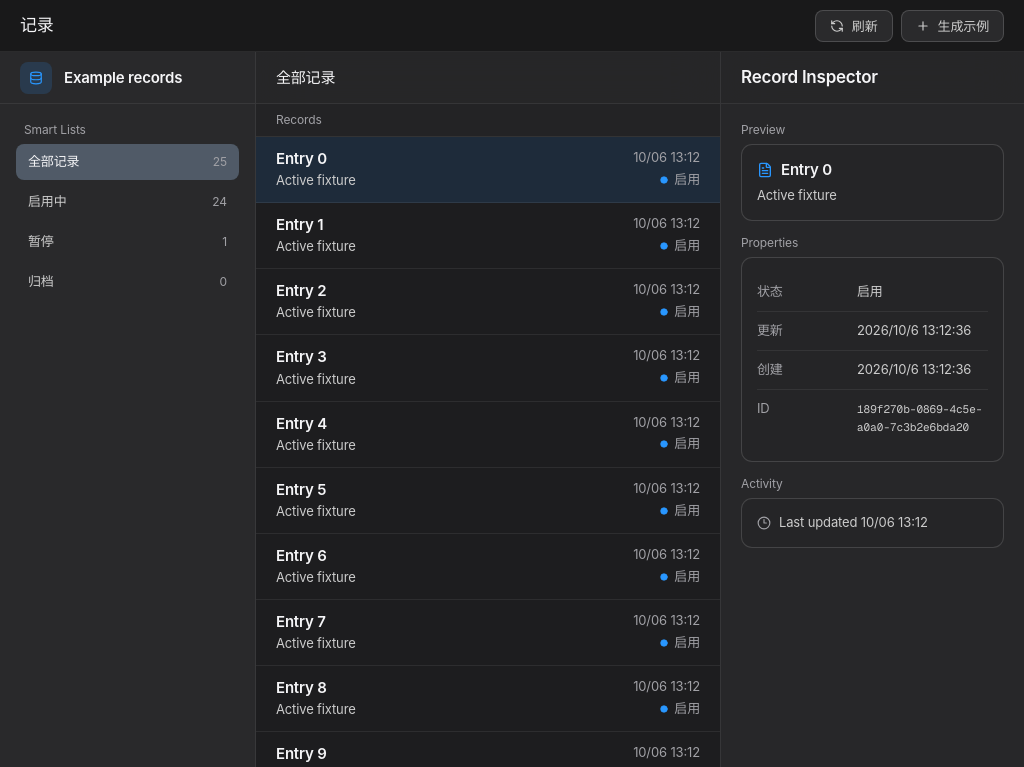
shows and filters records beyond the former first page
Check: the button "全部记录 25" is shown, box [16,144,239,180]
Step 1. Click the button "暂停 1" → x=128, y=242, box [16,224,239,260]
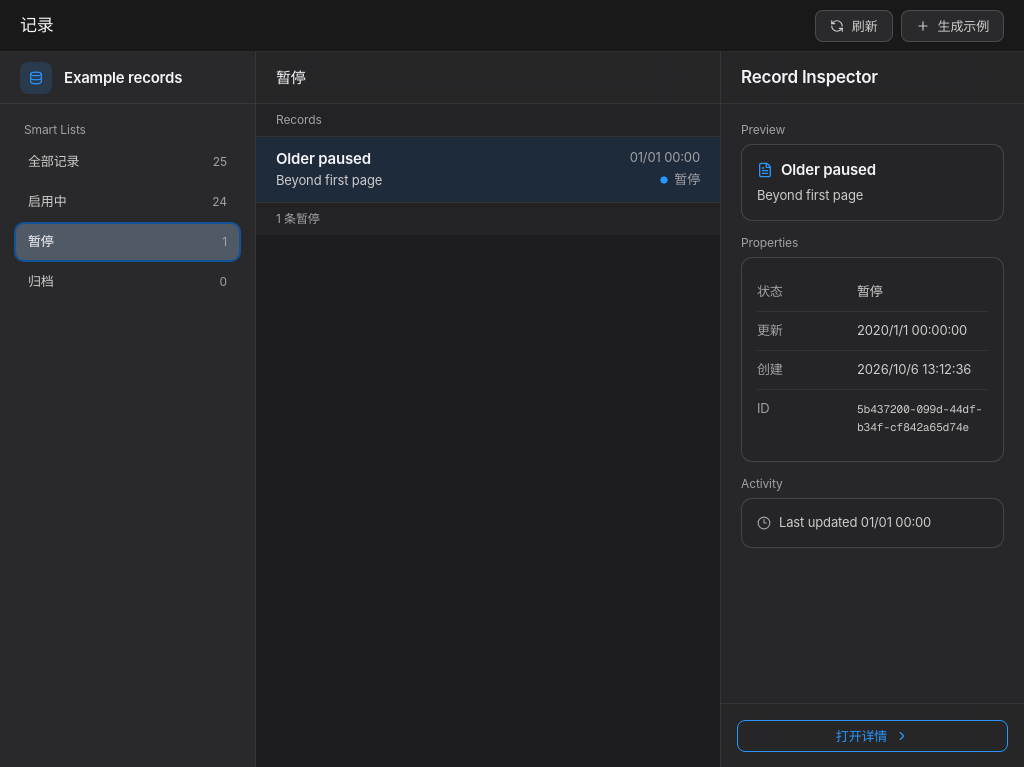
Check: the link "Older paused Beyond first page 01/01 00:00 暂停" is shown, box [256,137,720,202]
